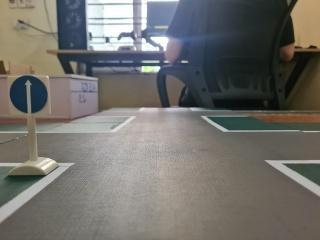straight: (10, 71, 52, 120)
